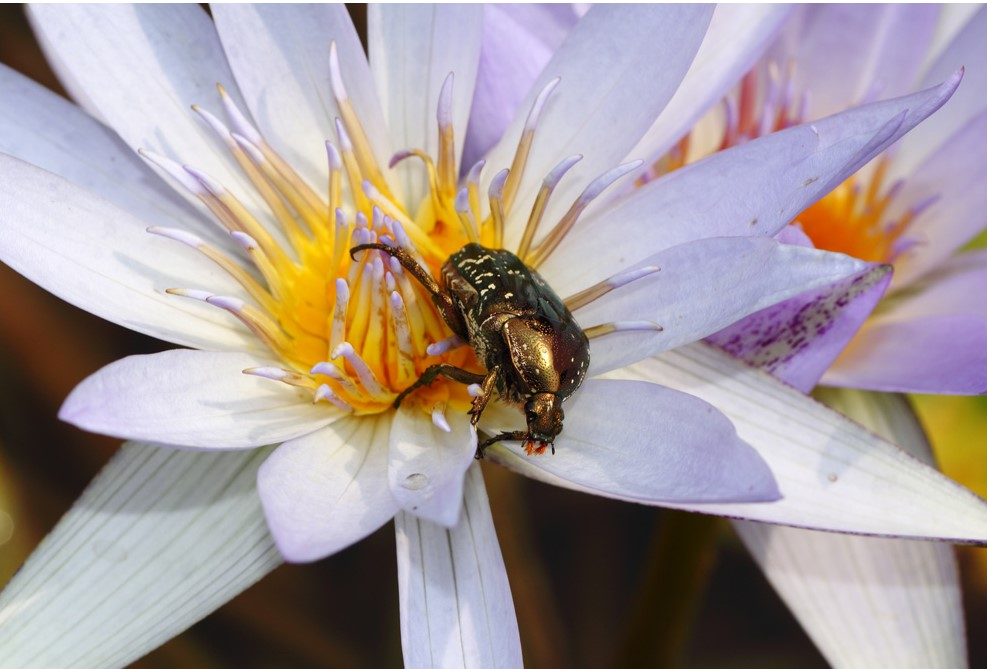Protaetia _orientalis: (340, 228, 590, 453)
